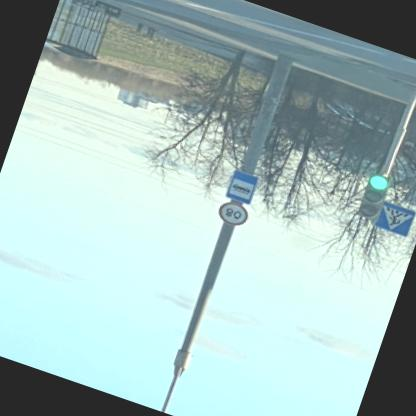crosswalk: (372, 201, 413, 238)
speedlimit: (212, 200, 248, 232)
trafficlight: (353, 172, 391, 225)
